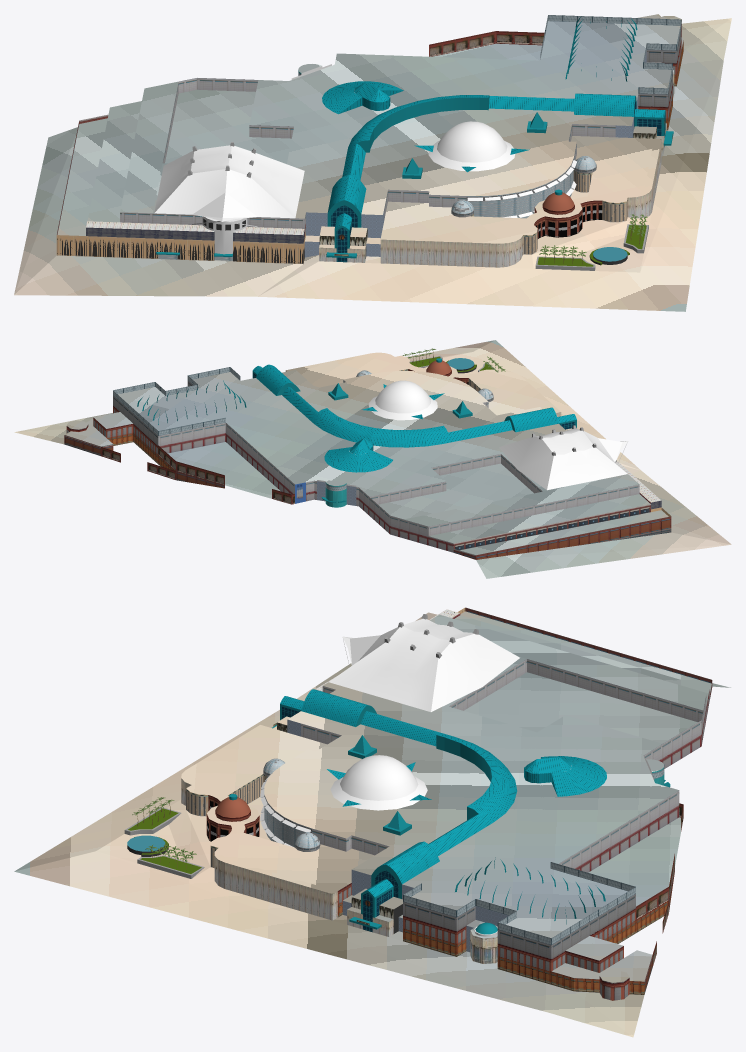
The model's file is Colombo_exterior.fbx.
The picture shows the model from 3 angles, top to bottom: view 1: azimuth 30°, elevation 25°; view 2: azimuth 150°, elevation 25°; view 3: azimuth 270°, elevation 25°; orthographic projection. The views are drawn at different scales.
Parts seen in each view (by area): view 1: Model, cobertura1, Component_9_1, Component_1_1, Component_12_1, Component_2_1, Component_6_1, Component_3_2, Component_4_1; view 2: Model, cobertura1, Component_9_1, Component_1_1, Component_2_1, Component_6_1; view 3: Model, cobertura1, Component_9_1, Component_1_1, Component_2_1, Component_6_1, Component_4_1.
Part boxes in pixels (left/top/right/bottom): Model: left=14, top=14, right=731, bottom=311; cobertura1: left=120, top=21, right=680, bottom=240; Component_9_1: left=154, top=145, right=304, bottom=227; Component_1_1: left=342, top=95, right=574, bottom=180; Component_12_1: left=304, top=200, right=382, bottom=262; Component_2_1: left=428, top=121, right=515, bottom=171; Component_6_1: left=322, top=81, right=403, bottom=114; Component_3_2: left=573, top=156, right=596, bottom=192; Component_4_1: left=542, top=192, right=574, bottom=214; Model: left=14, top=340, right=731, bottom=578; cobertura1: left=118, top=355, right=639, bottom=526; Component_9_1: left=499, top=428, right=627, bottom=490; Component_1_1: left=282, top=386, right=512, bottom=447; Component_2_1: left=368, top=380, right=437, bottom=420; Component_6_1: left=324, top=438, right=392, bottom=472; Model: left=14, top=607, right=730, bottom=1037; cobertura1: left=186, top=614, right=706, bottom=938; Component_9_1: left=329, top=618, right=519, bottom=711; Component_1_1: left=361, top=711, right=517, bottom=855; Component_2_1: left=330, top=755, right=427, bottom=810; Component_6_1: left=524, top=756, right=606, bottom=796; Component_4_1: left=215, top=797, right=250, bottom=821.
Size of the model in its own units: 513 by 53.71 by 355.
